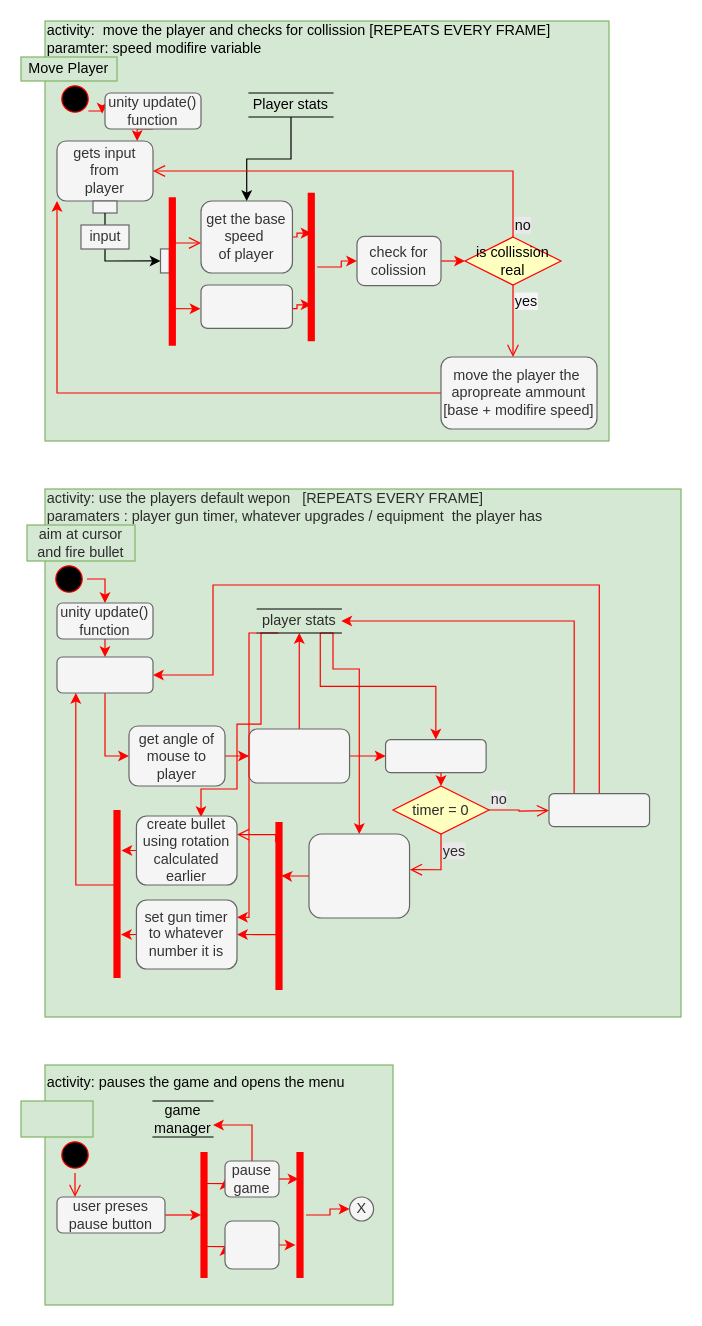
Some shapes in this 702 by 1326 pixel diagram are drawn without their labels. The box of each missing label's shape, as (x1, y1, x2, y2) in pixels:
decrese gun timer by 1: (548, 792, 650, 827)
get gun timer: (384, 738, 486, 773)
get position of mouse: (56, 656, 153, 693)
get the speed modifire: (200, 284, 292, 328)
get whatever modifires you have from equip and upgraes: (308, 833, 410, 918)
pause: (20, 1100, 93, 1137)
set that angle in player object thing: (248, 728, 350, 783)
spawn pause screen: (224, 1220, 279, 1269)
